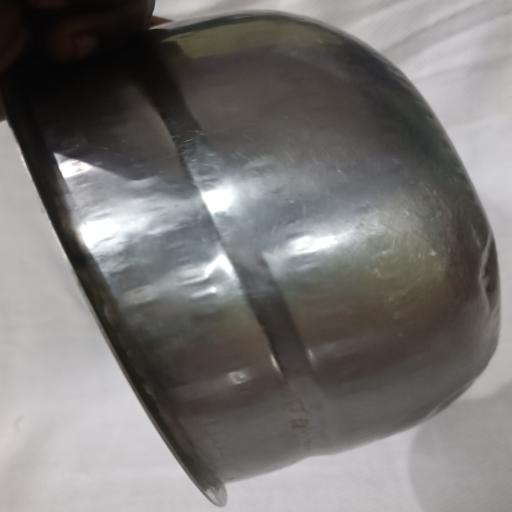vessel: (3, 12, 499, 505)
